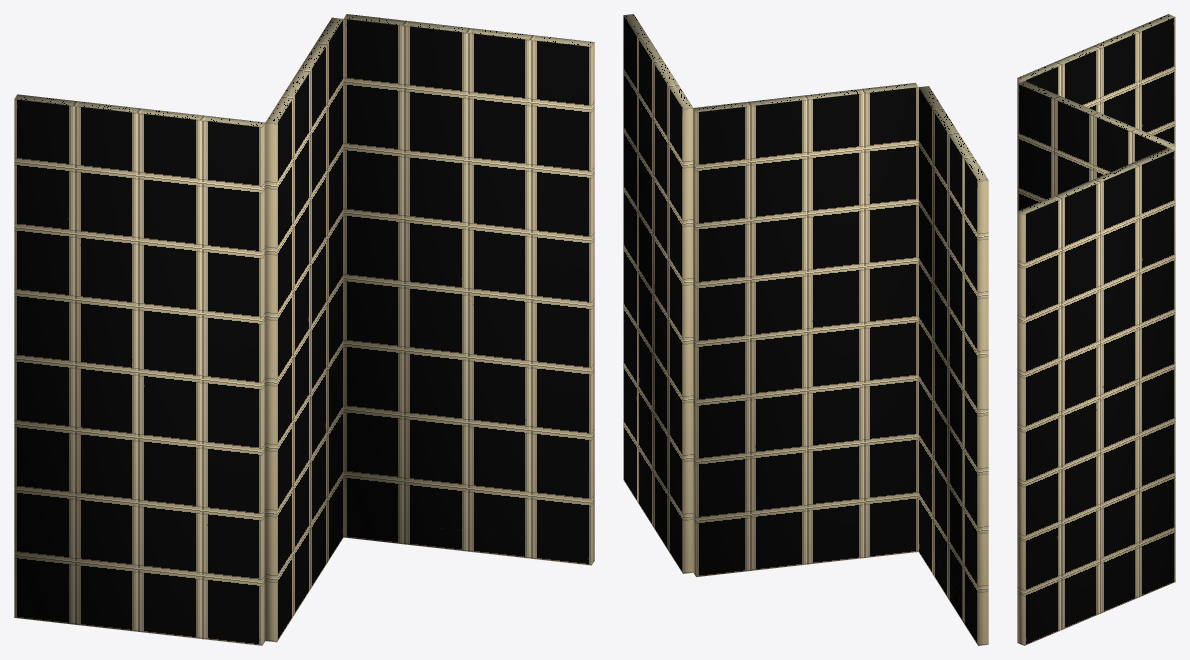
The model's file is 3119IMRL09_10.gltf.
3 renders of one model, left to right at view 1: azimuth 30°, elevation 25°; view 2: azimuth 150°, elevation 25°; view 3: azimuth 270°, elevation 25°, orthographic. The views are drawn at different scales.
Parts seen in each view (by area): view 1: 3119IMRL09_10; view 2: 3119IMRL09_10; view 3: 3119IMRL09_10.
Part boxes in pixels (x1=…): 3119IMRL09_10: x1=14, y1=14, x2=594, y2=645; 3119IMRL09_10: x1=623, y1=14, x2=988, y2=645; 3119IMRL09_10: x1=1017, y1=14, x2=1175, y2=645.
Size of the model in its own units: 1.88 by 1.89 by 0.6279.
3 materials, 3 textured.
